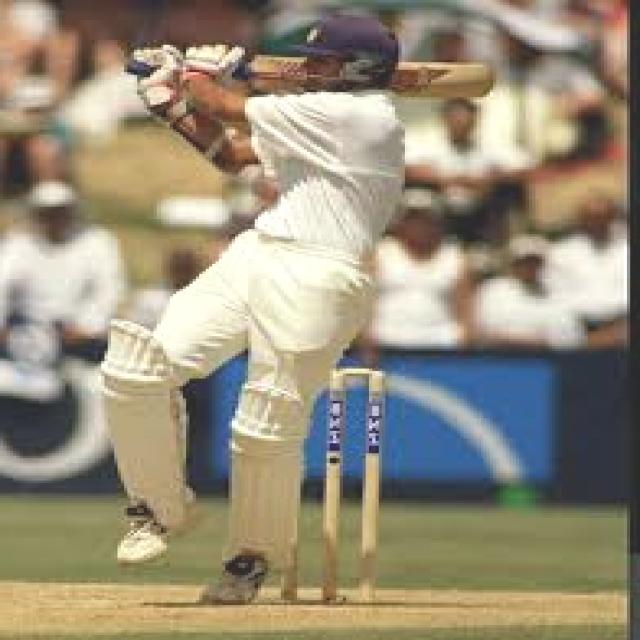toe: (474, 58, 494, 105)
